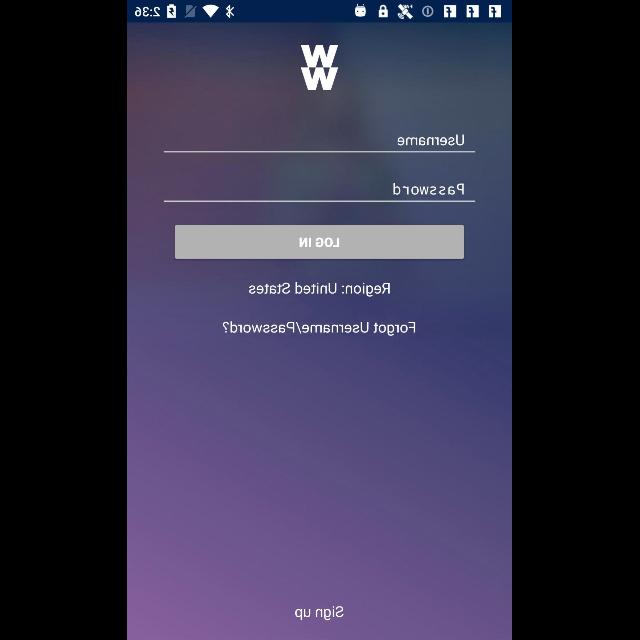image: (301, 46, 339, 90)
input: (164, 134, 476, 154), (164, 184, 476, 202)
text: (224, 322, 416, 336), (250, 282, 390, 298), (394, 183, 464, 195), (398, 134, 464, 146), (296, 606, 344, 620)
textbutton: (175, 225, 465, 259)
uppertaskbar: (128, 1, 512, 23)
